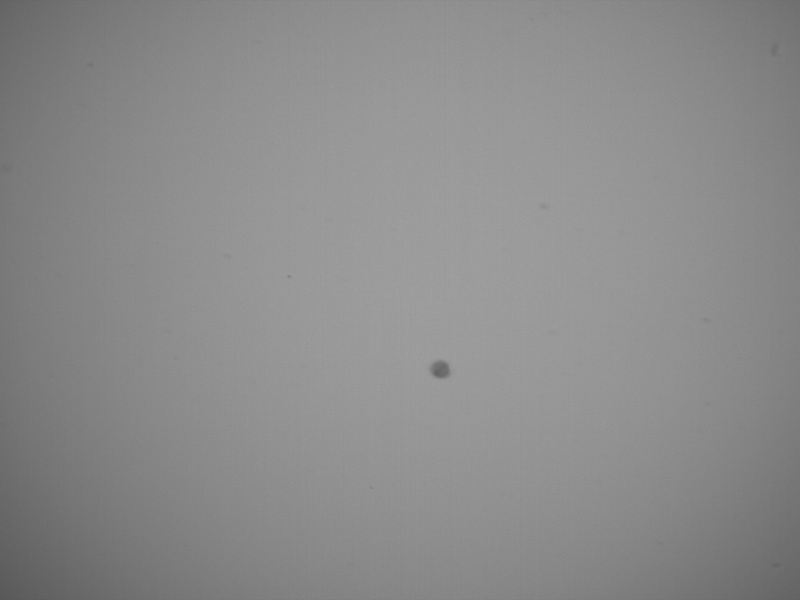bead: (431, 359, 451, 379)
